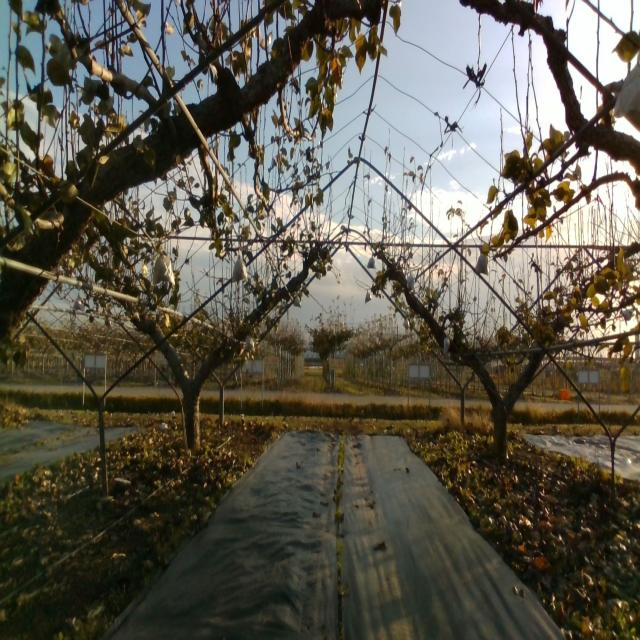pearbags: (612, 46, 640, 120), (152, 251, 175, 289), (232, 254, 248, 283), (475, 254, 489, 276)
